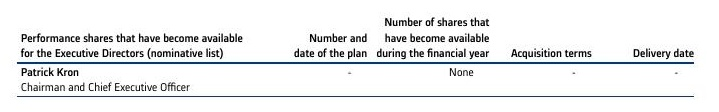table: (0, 0, 719, 112)
